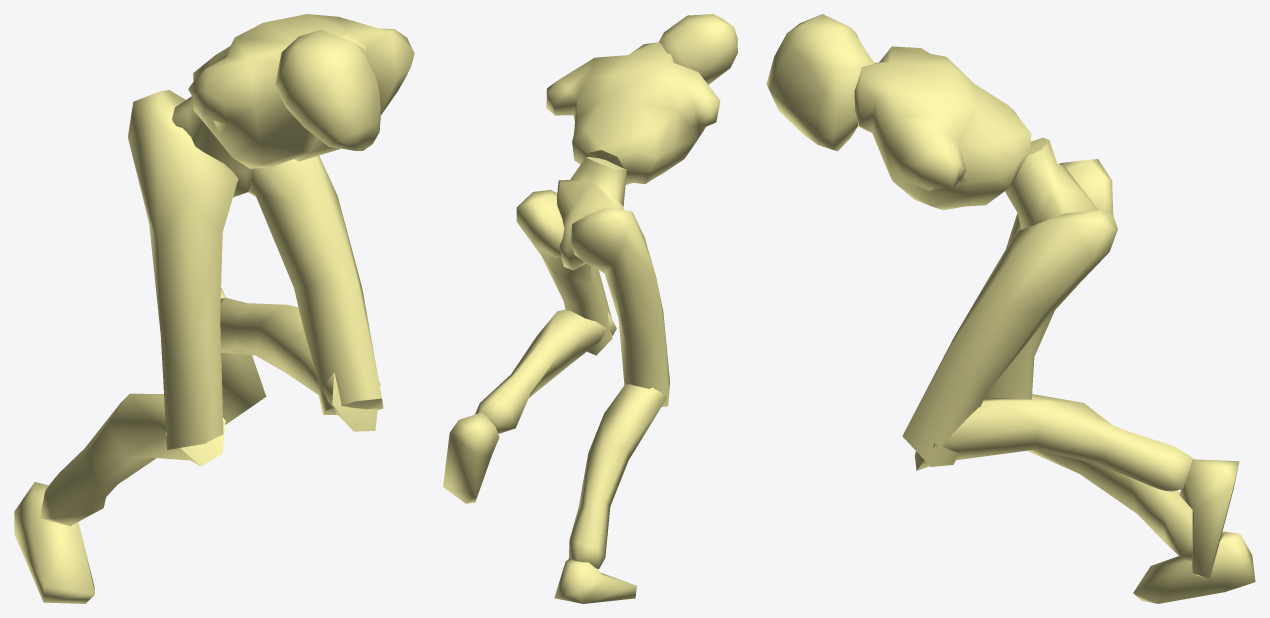
Rendered from filth9.obj.
The picture shows the model from 3 angles, left to right: view 1: azimuth 30°, elevation 25°; view 2: azimuth 150°, elevation 25°; view 3: azimuth 270°, elevation 25°; orthographic projection. The views are drawn at different scales.
Parts seen in each view (by area): view 1: Melee_Husk; view 2: Melee_Husk; view 3: Melee_Husk.
Boxes of the visible parts, x1,y1,x2,y2 form: Melee_Husk: (14,14,414,603); Melee_Husk: (443,14,737,603); Melee_Husk: (766,14,1255,603).
Size of the model in its own units: 22.16 by 58.52 by 43.22.
